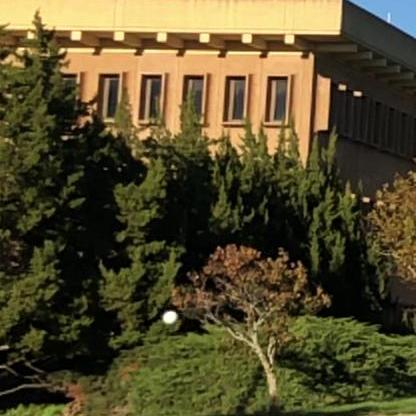golfball: (159, 306, 178, 323)
